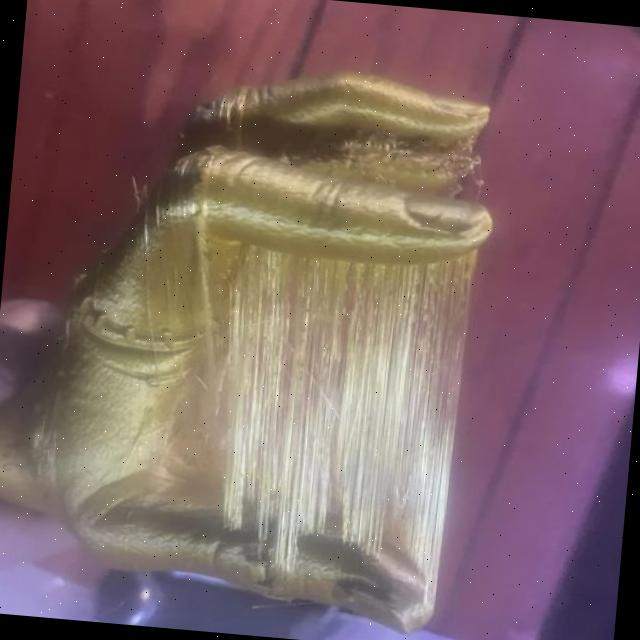stringing: (196, 223, 477, 576)
